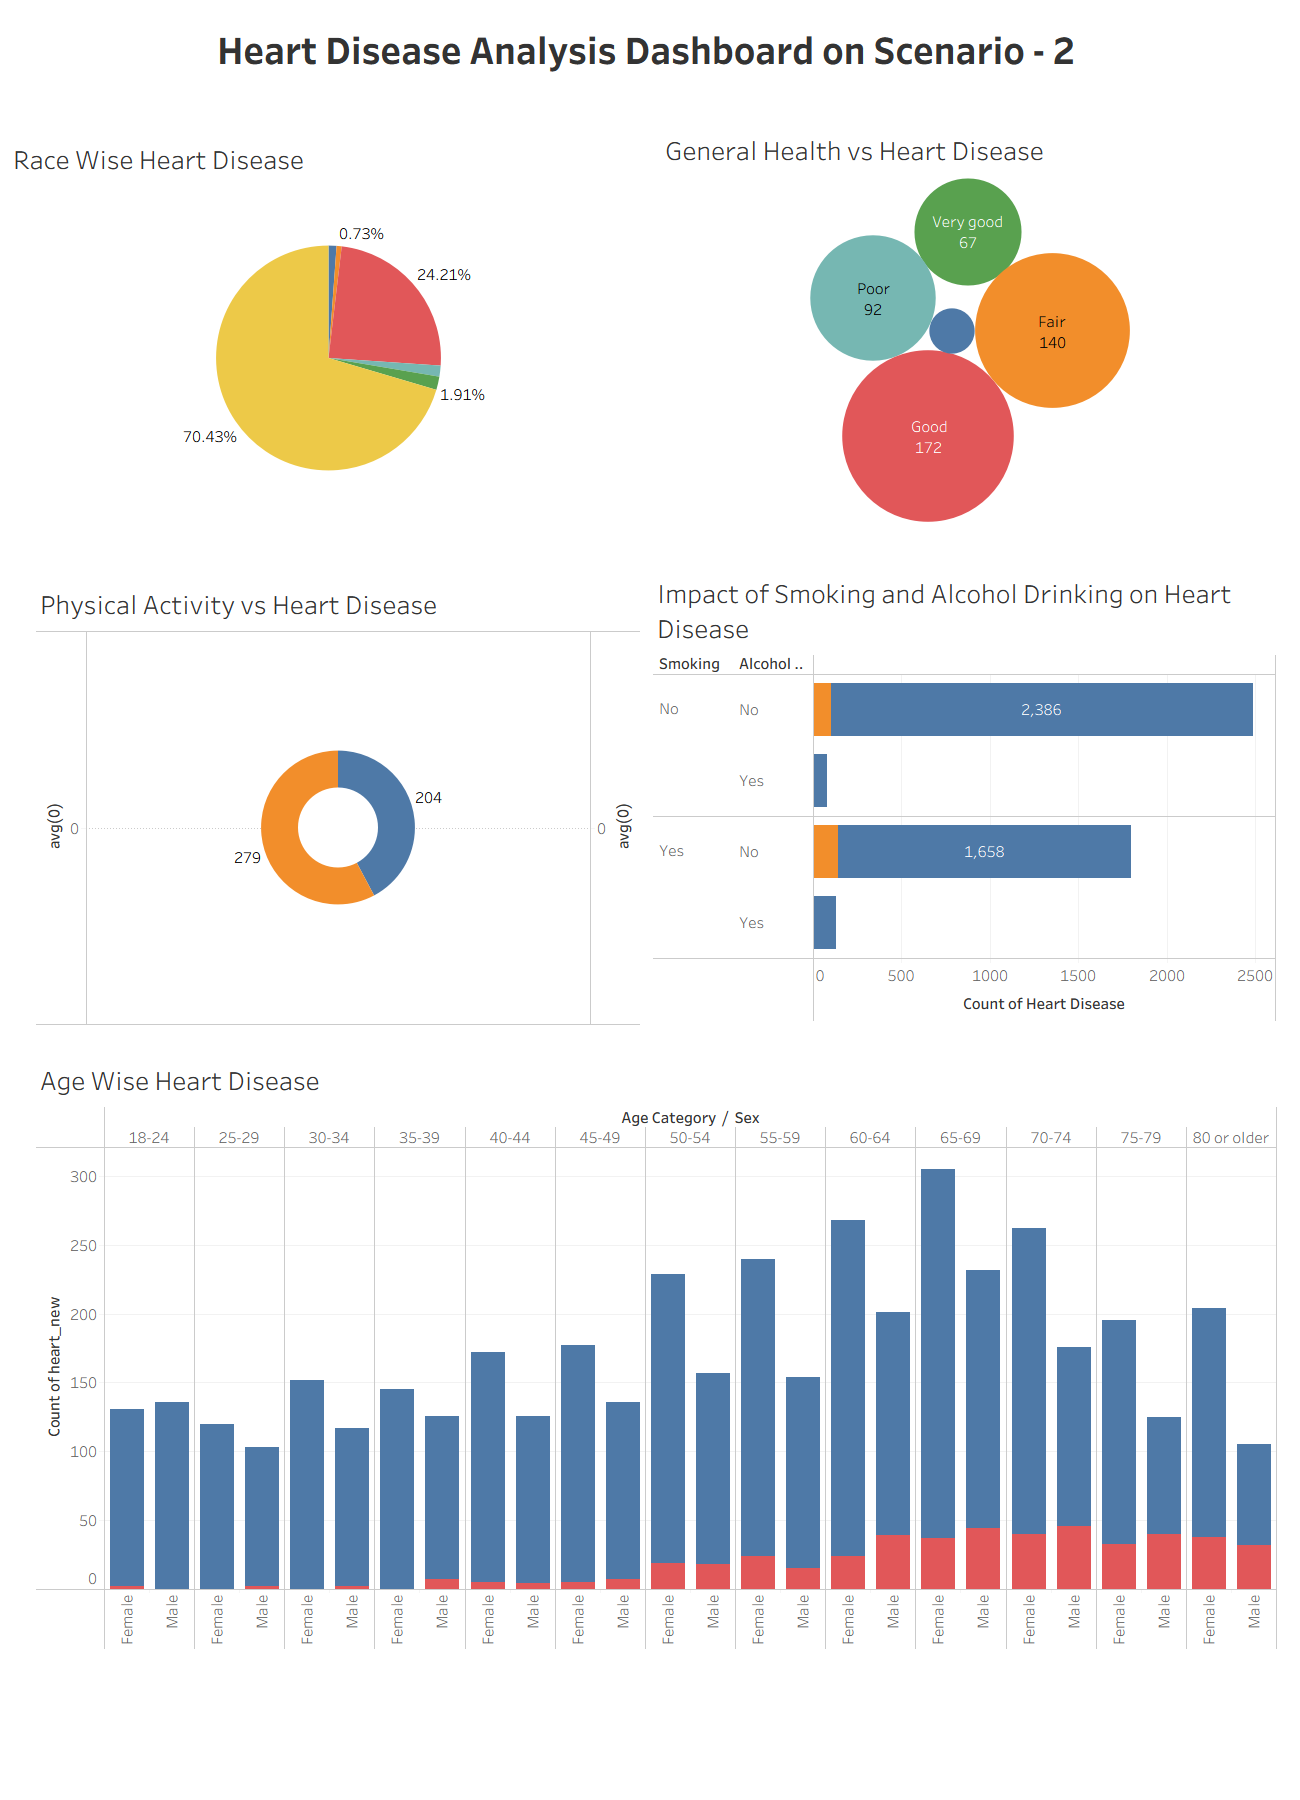

What the dashboard file says about the page in this screenshot:
{"tool":"tableau","page":{"name":"Dashboard 2","canvas":[1300,1800],"ordinal":1},"visuals":[{"type":"title","box":[35.8,12.4,1219.8,73.1]},{"type":"worksheet","title":"General Health vs Heart Disease ","mark":"Circle","box":[661,127,618,395]},{"type":"worksheet","title":"Race Wise Heart Disease","mark":"Pie","box":[9,136,639,394]},{"type":"worksheet","title":"Impact of Smoking and Alcohol Drinking on Heart Disease ","mark":"Automatic","rows":["Smoking","AlcoholDrinking"],"cols":["HeartDisease"],"box":[653,570,623,452]},{"type":"worksheet","title":"Physical Activity vs Heart Disease ","mark":"Pie","rows":["Calculation_1364514281467911","Calculation_1364514281517065"],"box":[36,581,605,444]},{"type":"worksheet","title":"Age Wise Heart Disease ","mark":"Automatic","rows":["heart_new_14DB12C846944476AC86EA8DA5B1B9A1"],"cols":["AgeCategory","Sex"],"box":[36,1057,1241,593]}]}

Visuals, with their boxes in screenshot pixels (x1, y1, x2, y2), scaled from the page's 1300x1800 canvas onto the 1300x1800 screenshot:
title: Rect(36, 12, 1256, 86)
"General Health vs Heart Disease " worksheet (Circle marks): Rect(661, 127, 1279, 522)
"Race Wise Heart Disease" worksheet (Pie marks): Rect(9, 136, 648, 530)
"Impact of Smoking and Alcohol Drinking on Heart Disease " worksheet: Rect(653, 570, 1276, 1022)
"Physical Activity vs Heart Disease " worksheet (Pie marks): Rect(36, 581, 641, 1025)
"Age Wise Heart Disease " worksheet: Rect(36, 1057, 1277, 1650)
